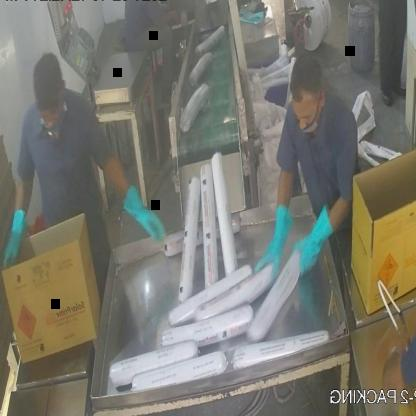glove: (294, 190, 337, 290), (255, 198, 301, 286), (118, 181, 168, 253), (0, 202, 35, 271)
no_glove: (381, 316, 416, 399)
